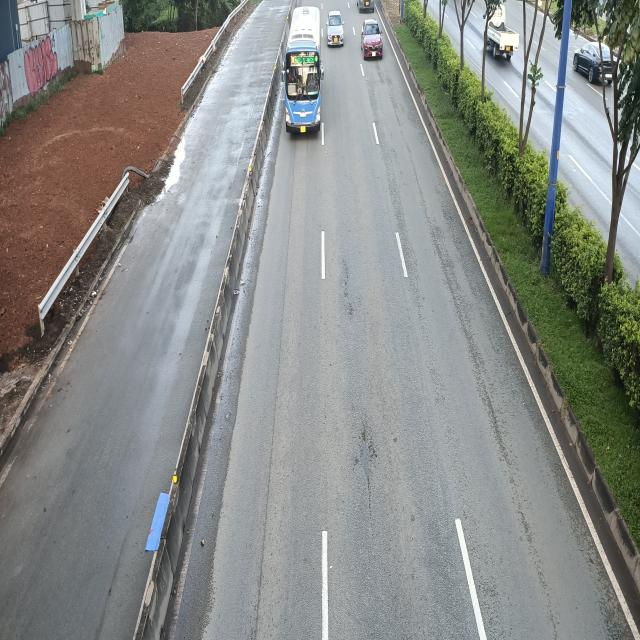car: (361, 20, 383, 59), (325, 10, 344, 47)
coach: (281, 6, 324, 135)
